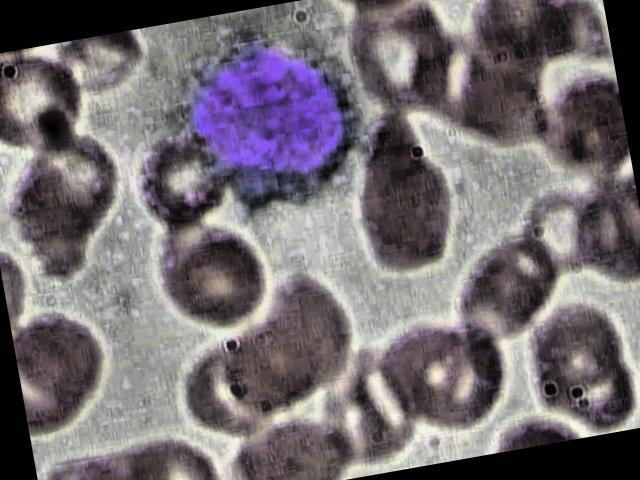RBC: (0, 123, 151, 288), (342, 97, 462, 277), (154, 214, 277, 342), (440, 224, 567, 347), (128, 128, 240, 237), (0, 40, 91, 154)
WBC: (158, 16, 384, 227)
